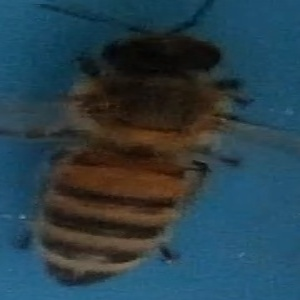bee: (15, 15, 277, 288)
